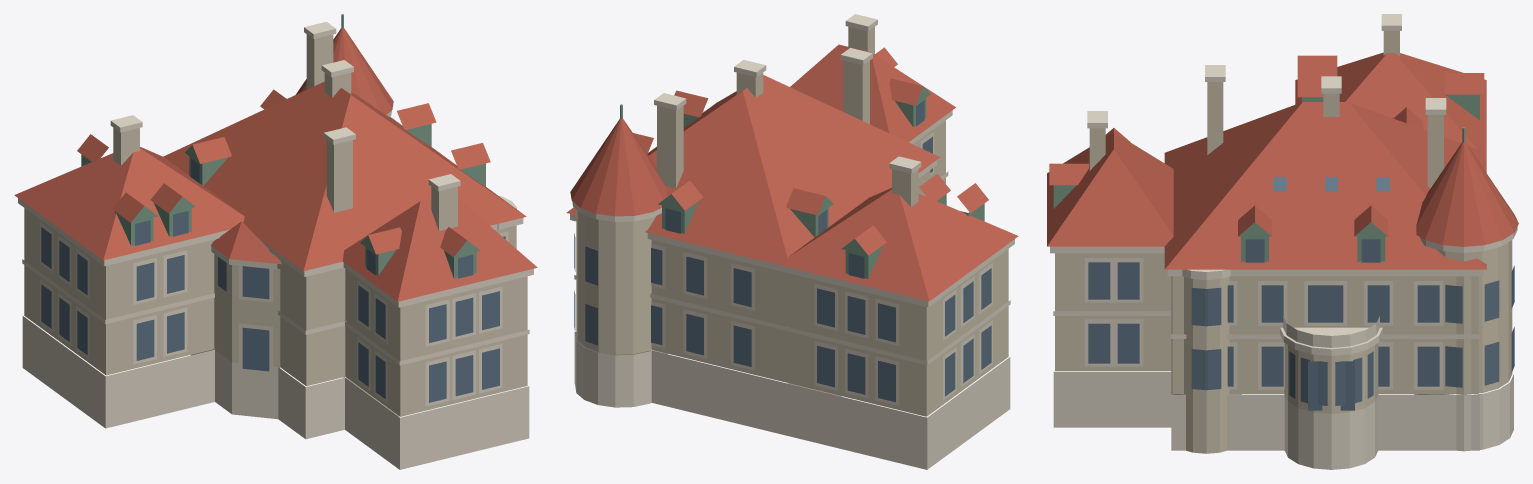
The model's file is pdx-pittock-mansion.glb.
3 renders of one model, left to right at view 1: azimuth 30°, elevation 25°; view 2: azimuth 150°, elevation 25°; view 3: azimuth 270°, elevation 25°, orthographic. The views are drawn at different scales.
Visible parts, largest first — view 1: Pittock Mansion; view 2: Pittock Mansion; view 3: Pittock Mansion.
Part boxes in pixels (x1,y1,x2,y2): Pittock Mansion: (14,14,537,469); Pittock Mansion: (566,14,1018,469); Pittock Mansion: (1047,14,1518,469).
Size of the model in its own units: 33.45 by 23.5 by 32.1.
